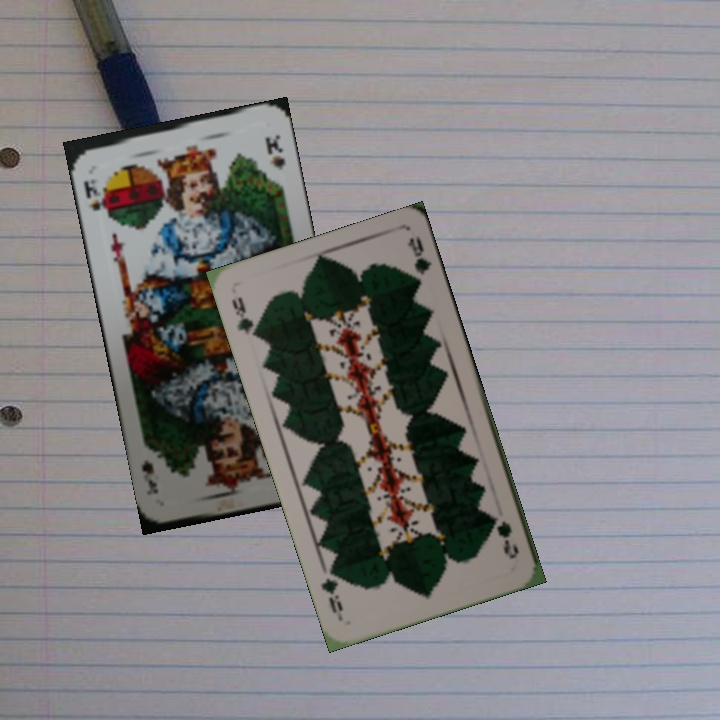G9: (487, 511, 522, 562), (227, 293, 263, 342)
SK: (79, 175, 112, 219)
